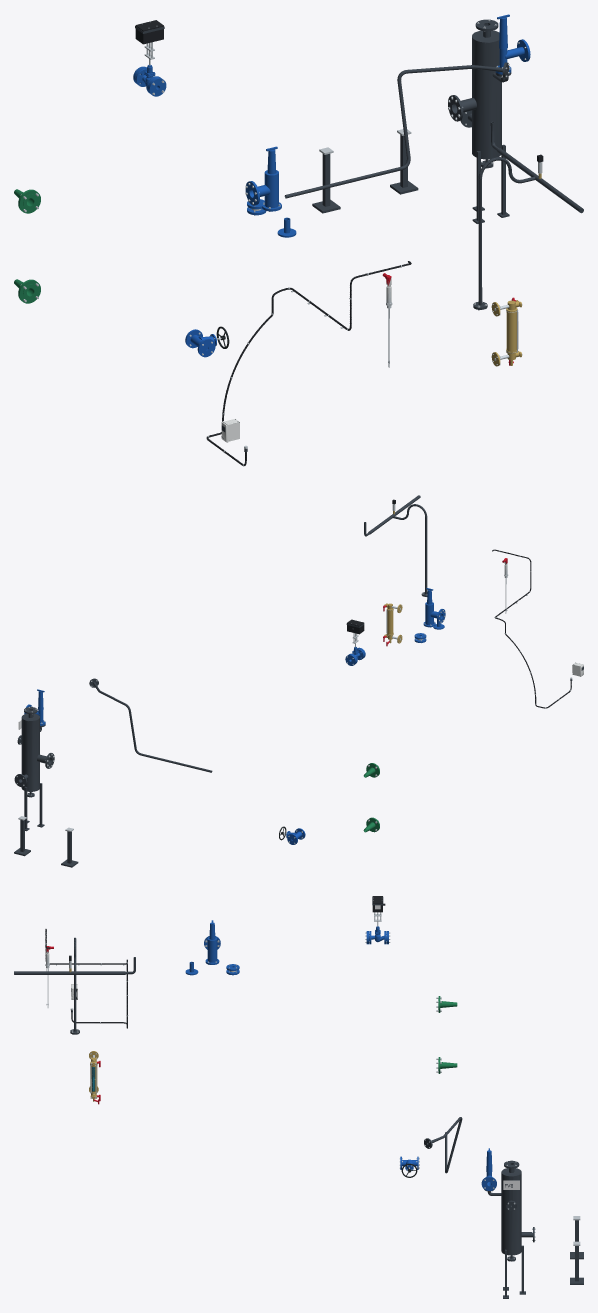
The model's file is s4000-5-CIUVteDp.glb.
The picture shows the model from 3 angles, top to bottom: view 1: azimuth 30°, elevation 25°; view 2: azimuth 150°, elevation 25°; view 3: azimuth 270°, elevation 25°; orthographic projection. The views are drawn at different scales.
Visible parts, largest first — view 1: separator_fv8 / dark, pressure_header / dark, tds_without_fv / dark, trap_support / dark, safety_2 / blue, sight_glasses_2 / sight_glasses_2_0.npz, wiring_lcs600 / black, eco_inlet_adapter / green, flash_steam_common / blue, drain_isolation_2 / drain_isolation_2_0.npz; view 2: separator_fv8 / dark, pressure_header / dark, tds_without_fv / dark, trap_support / dark; view 3: separator_fv8 / dark, pressure_header / dark.
Boxes of the visible parts, box(x1,y1,x2,y2) form: separator_fv8 / dark: box(448, 19, 511, 223); pressure_header / dark: box(473, 121, 583, 309); tds_without_fv / dark: box(284, 62, 508, 198); trap_support / dark: box(312, 135, 418, 213); safety_2 / blue: box(245, 146, 281, 211); sight_glasses_2 / sight_glasses_2_0.npz: box(491, 297, 522, 366); wiring_lcs600 / black: box(206, 261, 411, 465); eco_inlet_adapter / green: box(14, 189, 40, 303); flash_steam_common / blue: box(495, 14, 530, 74); drain_isolation_2 / drain_isolation_2_0.npz: box(185, 326, 229, 357); separator_fv8 / dark: box(14, 707, 54, 831); pressure_header / dark: box(364, 495, 427, 596); tds_without_fv / dark: box(89, 678, 212, 772); trap_support / dark: box(14, 820, 78, 867); separator_fv8 / dark: box(484, 1160, 534, 1298); pressure_header / dark: box(14, 937, 135, 1034).
Bounding box in the file's own units: 5.1 × 2.96 × 6.1.
